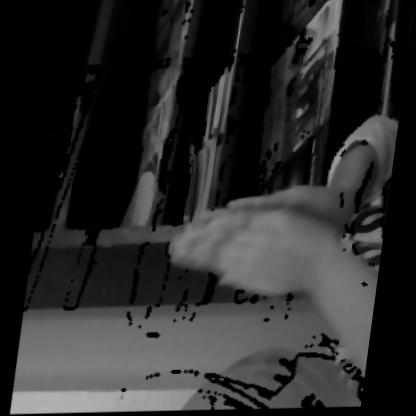namaste: (141, 131, 391, 345)
